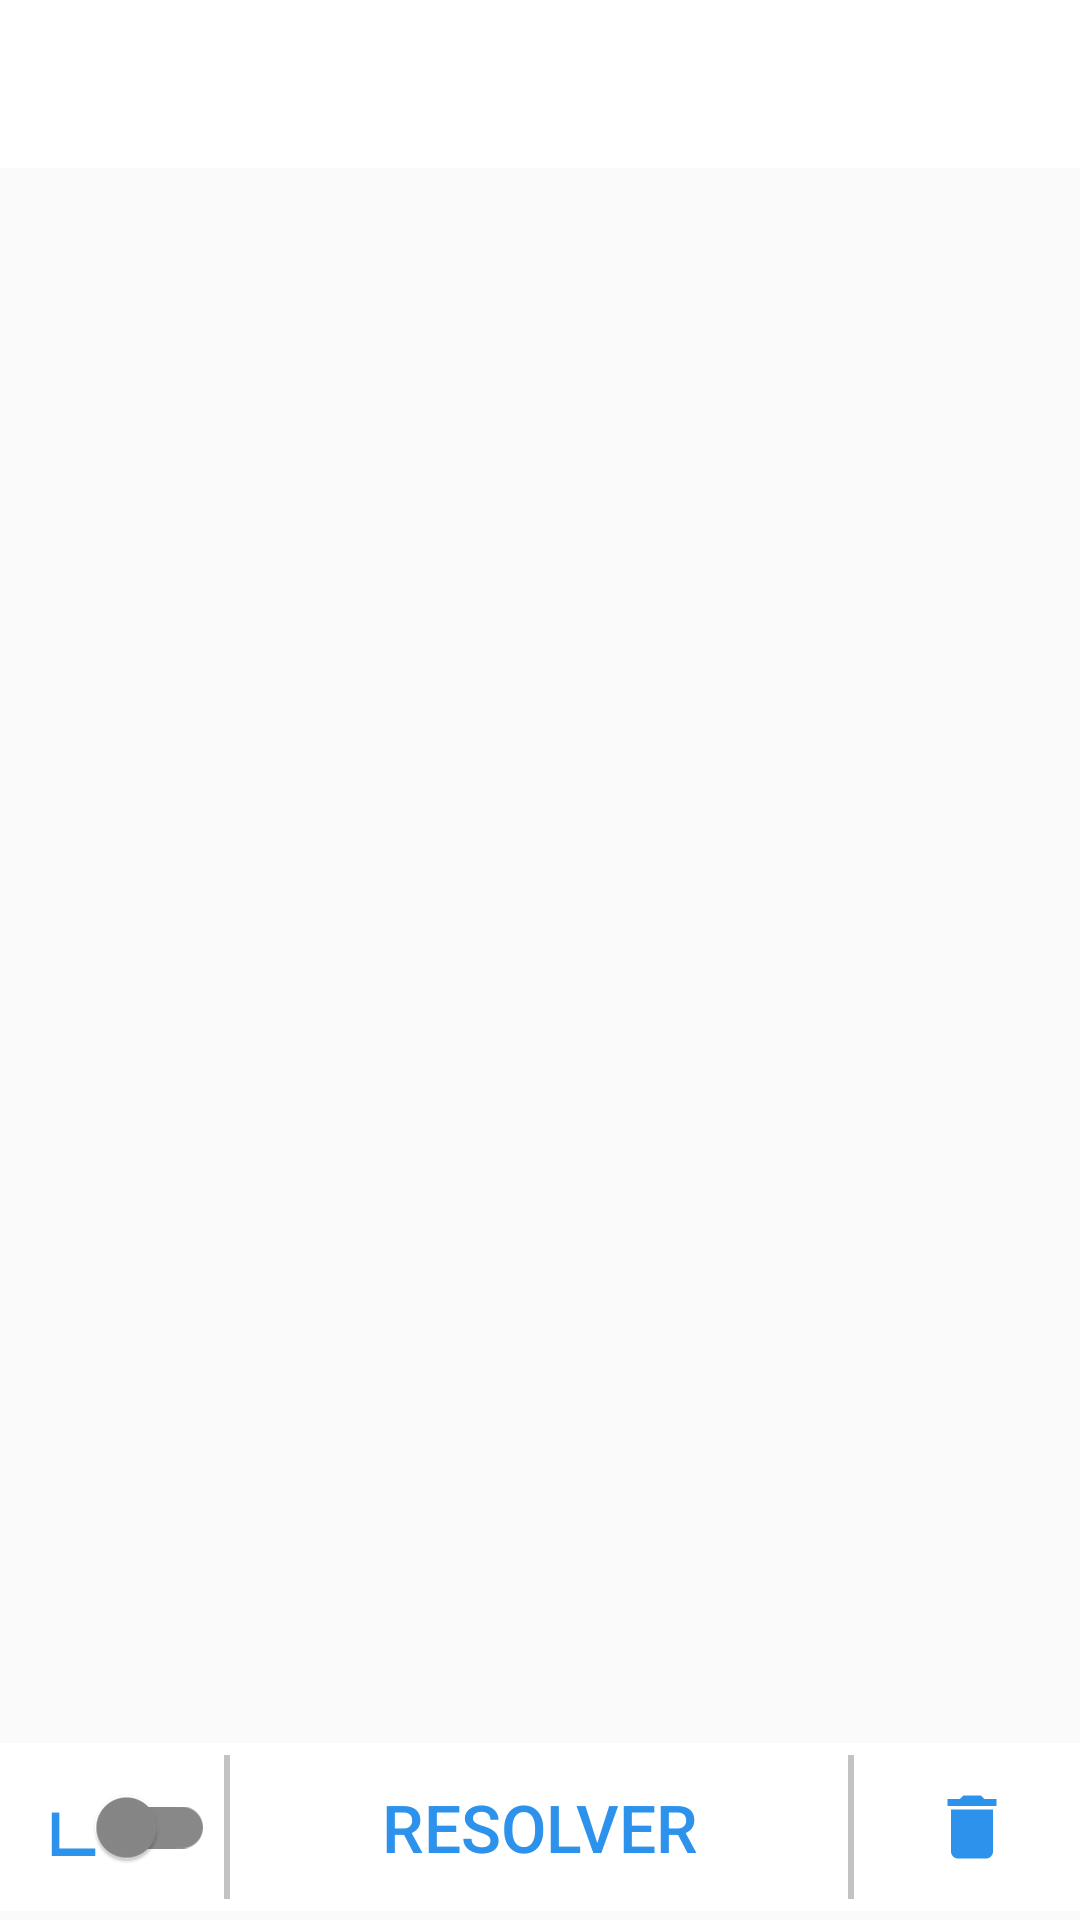

Locate icon controls on the screen. Image size 1080 x 1920, boxes as (x1, y1, x2, y2).
delete: (947, 1795, 997, 1859)
